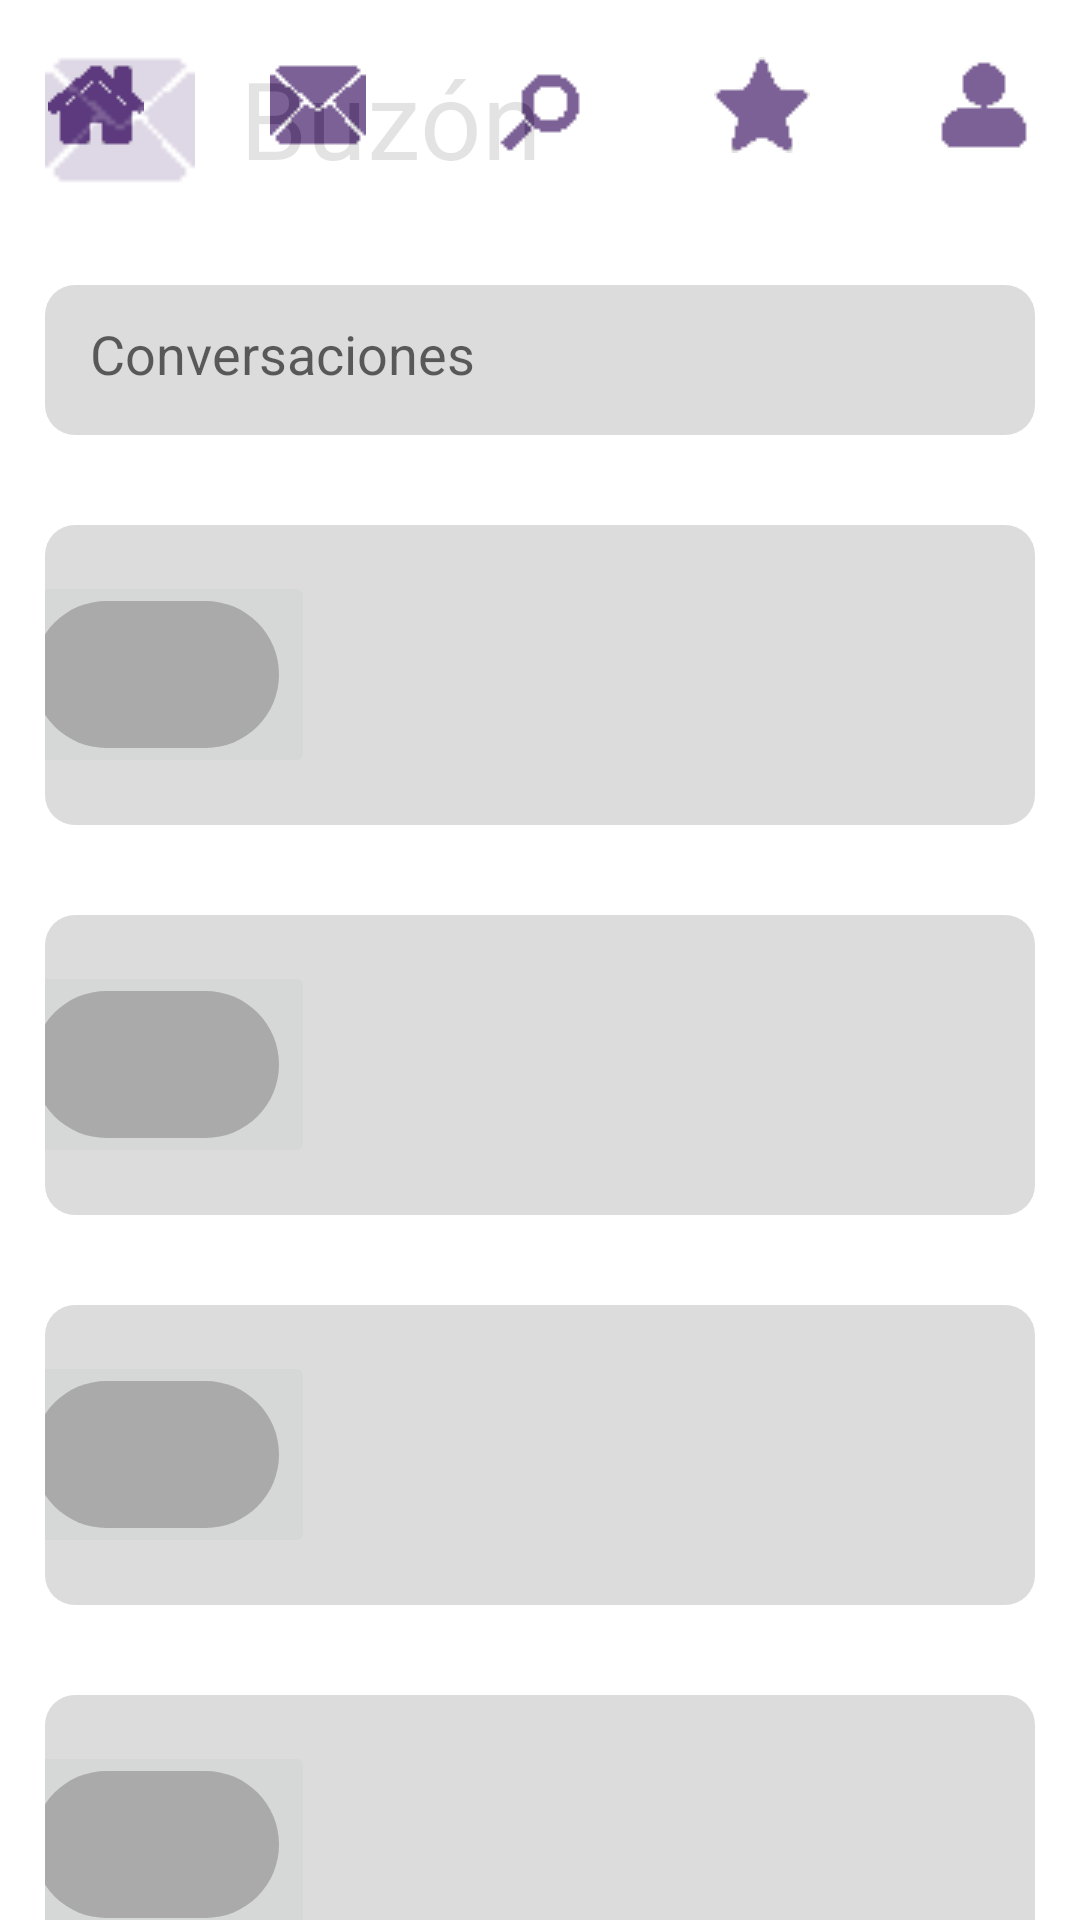

Icons on this 1080x1920 Android screen, each with its box as (x1,y1,x2,y2):
favorito: (714,59,810,153)
perfil: (941,62,1027,148)
